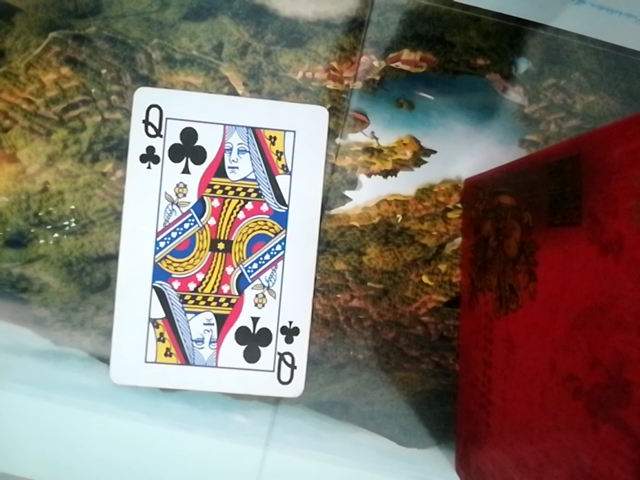mh q: (107, 93, 319, 400)
